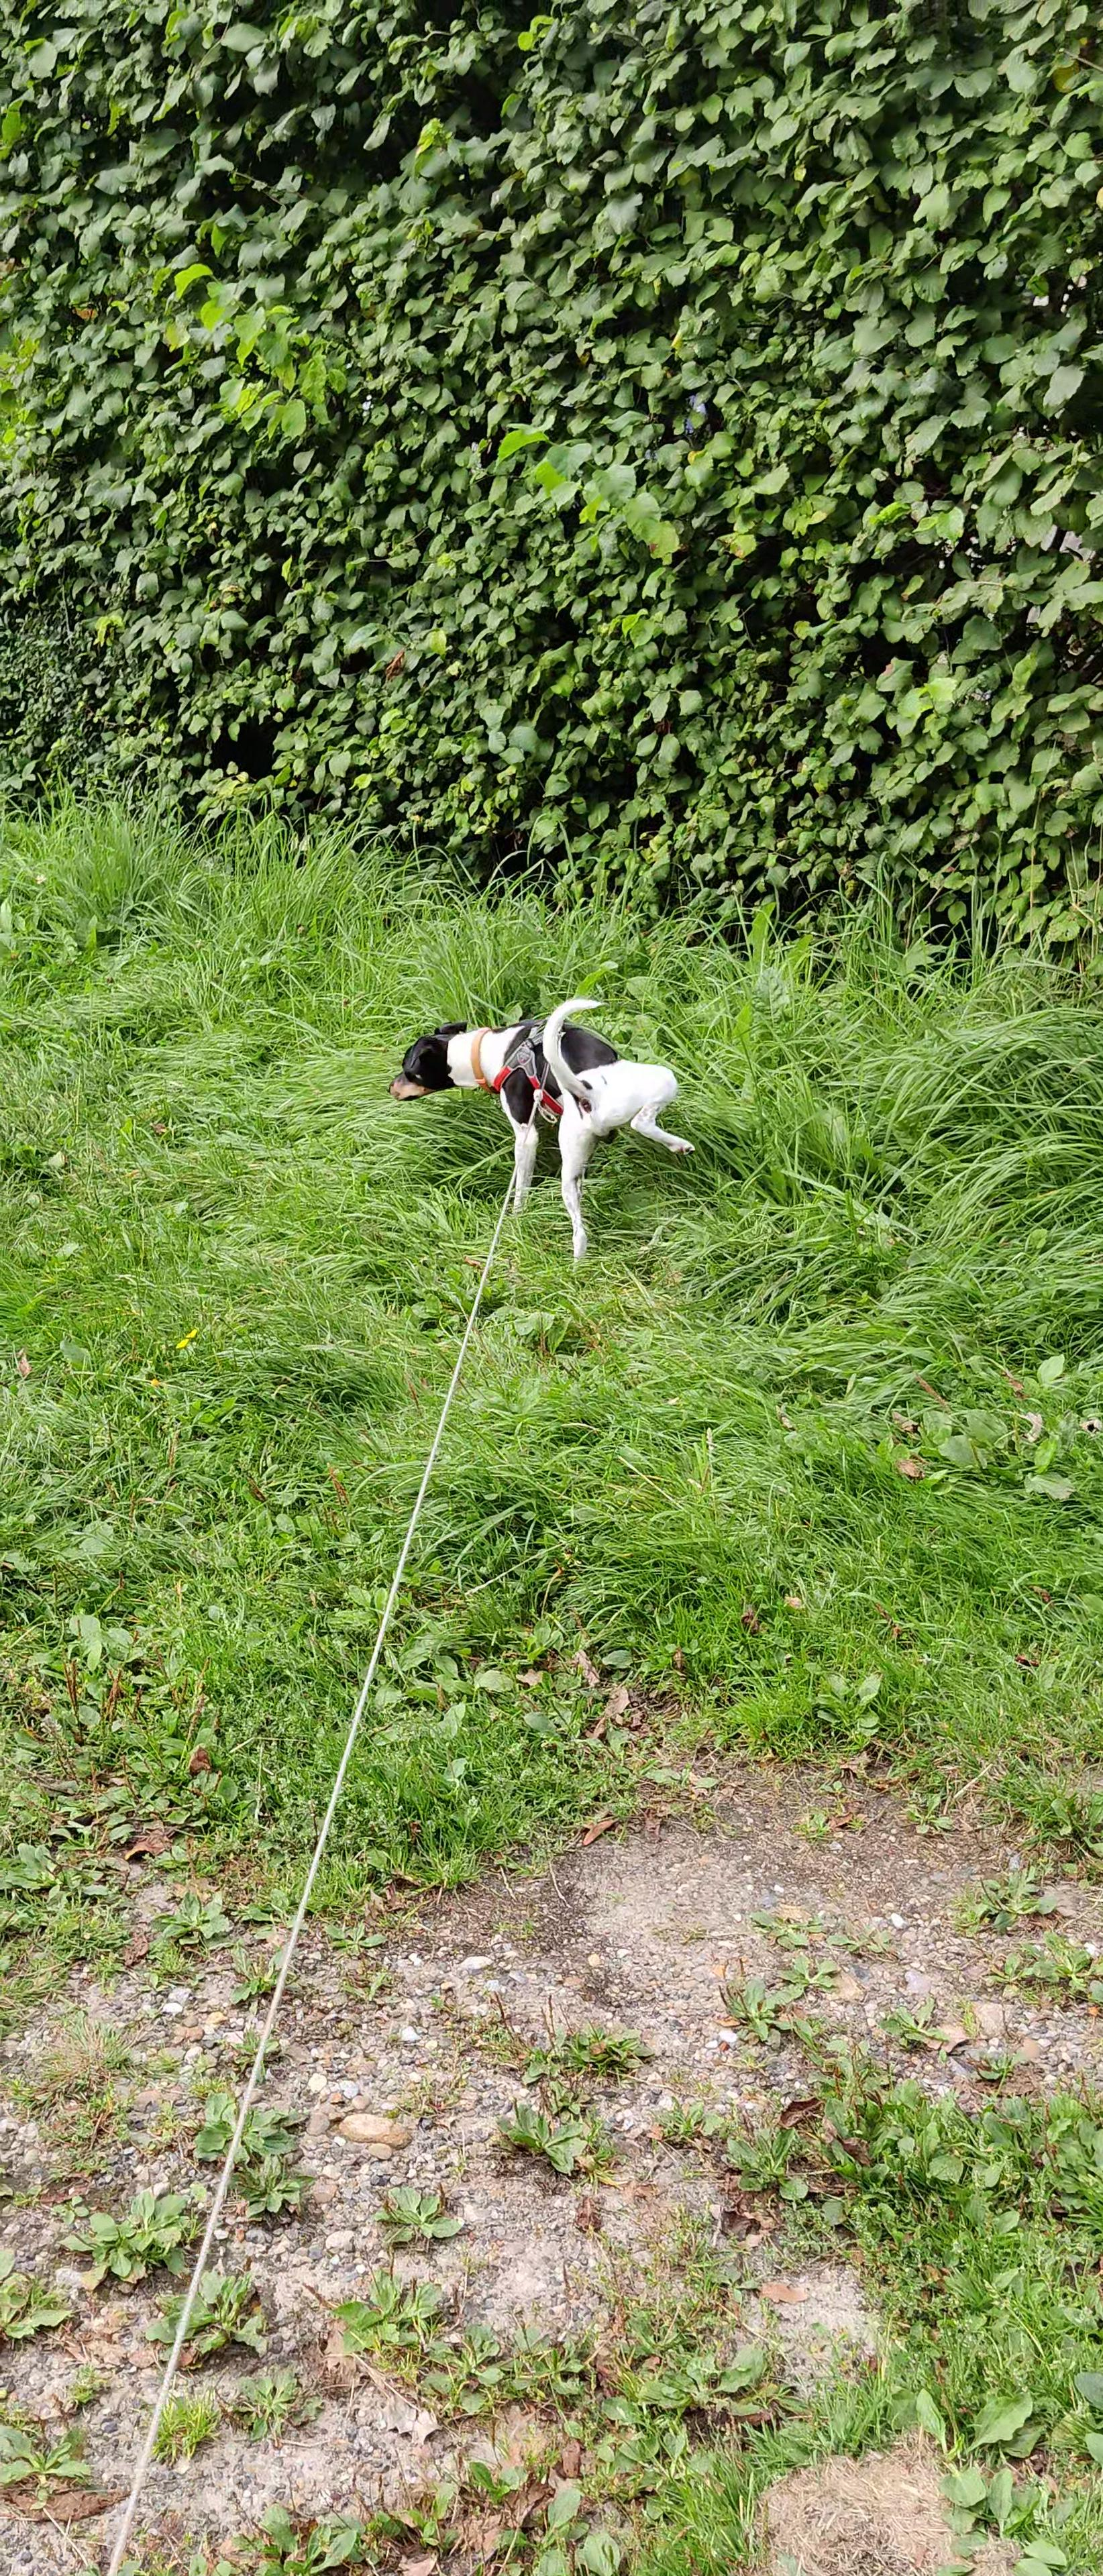Dog: (383, 992, 695, 1273)
